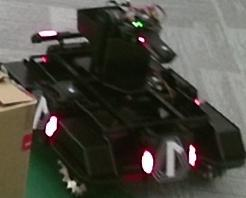armor_1: (141, 145, 196, 174)
front_1: (153, 137, 189, 183)
right_1: (29, 90, 51, 130)
